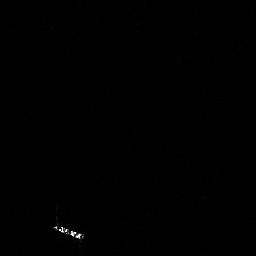ship: (51, 219, 88, 243)
